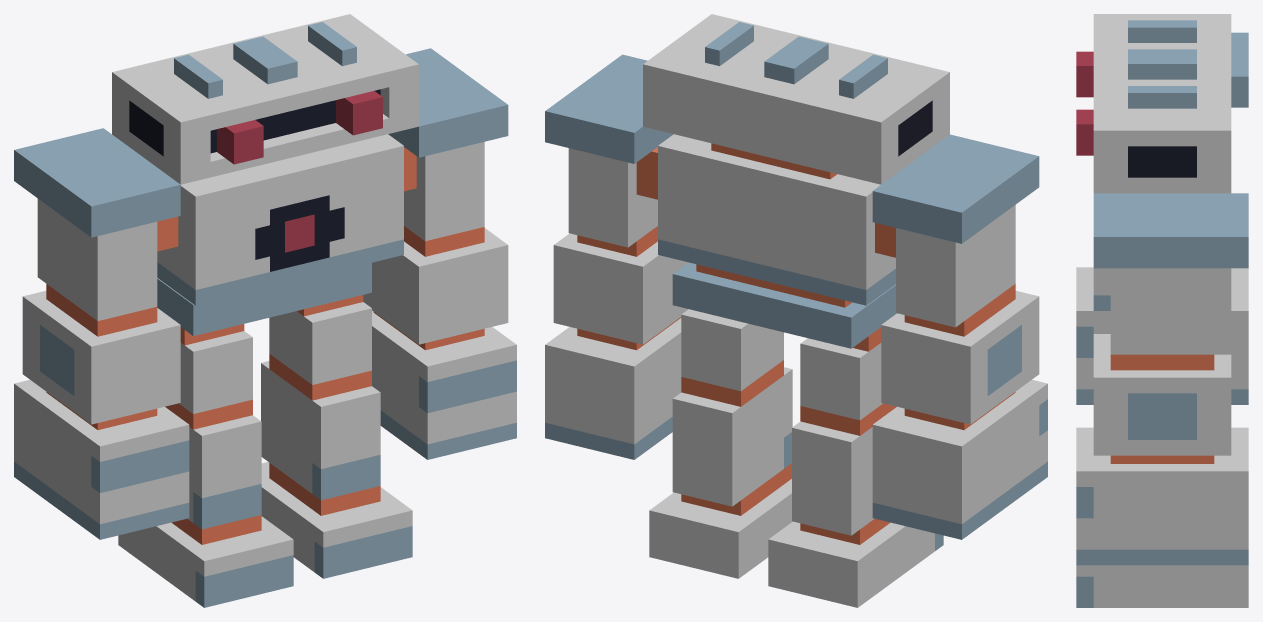
Rendered from boss_slambot.fbx.
The picture shows the model from 3 angles, left to right: view 1: azimuth 30°, elevation 25°; view 2: azimuth 150°, elevation 25°; view 3: azimuth 270°, elevation 25°; orthographic projection.
Visible parts, largest first — view 1: Torso, Head, FistR, FistL, ForearmR, ShinL, ForearmL, FootR, FootL, UpperArmR, ShinR, ThighL (+3 smaller); view 2: Torso, Head, FistR, ForearmR, FistL, ShinL, ForearmL, UpperArmR, FootR, FootL, ShinR, Pelvis (+3 smaller); view 3: Head, FistL, ForearmL, Torso, UpperArmL, FootL, FistR.
Part boxes in pixels (bbox=[...]): Torso: bbox=[14, 48, 508, 305]; Head: bbox=[112, 14, 418, 184]; FistR: bbox=[14, 380, 189, 539]; FistL: bbox=[372, 310, 516, 459]; ForearmR: bbox=[22, 284, 180, 424]; ShinL: bbox=[261, 354, 380, 500]; ForearmL: bbox=[363, 226, 508, 344]; FootR: bbox=[118, 515, 293, 607]; FootL: bbox=[261, 462, 412, 578]; UpperArmR: bbox=[37, 198, 178, 320]; ShinR: bbox=[165, 399, 261, 529]; ThighL: bbox=[269, 295, 371, 384]; Torso: bbox=[545, 54, 1039, 307]; Head: bbox=[643, 14, 949, 184]; FistR: bbox=[872, 380, 1047, 539]; ForearmR: bbox=[881, 284, 1039, 424]; FistL: bbox=[545, 317, 681, 459]; ShinL: bbox=[672, 360, 792, 506]; ForearmL: bbox=[553, 226, 688, 344]; UpperArmR: bbox=[875, 205, 1015, 327]; FootR: bbox=[768, 519, 943, 607]; FootL: bbox=[649, 463, 792, 578]; ShinR: bbox=[792, 403, 896, 535]; Pelvis: bbox=[672, 262, 896, 348]; Head: bbox=[1076, 14, 1231, 193]; FistL: bbox=[1076, 427, 1248, 565]; ForearmL: bbox=[1093, 334, 1231, 455]; Torso: bbox=[1093, 32, 1248, 310]; UpperArmL: bbox=[1110, 268, 1231, 354]; FootL: bbox=[1076, 565, 1248, 607]; FistR: bbox=[1076, 267, 1248, 404].
Size of the model in its own units: 4200 by 4800 by 1500.
